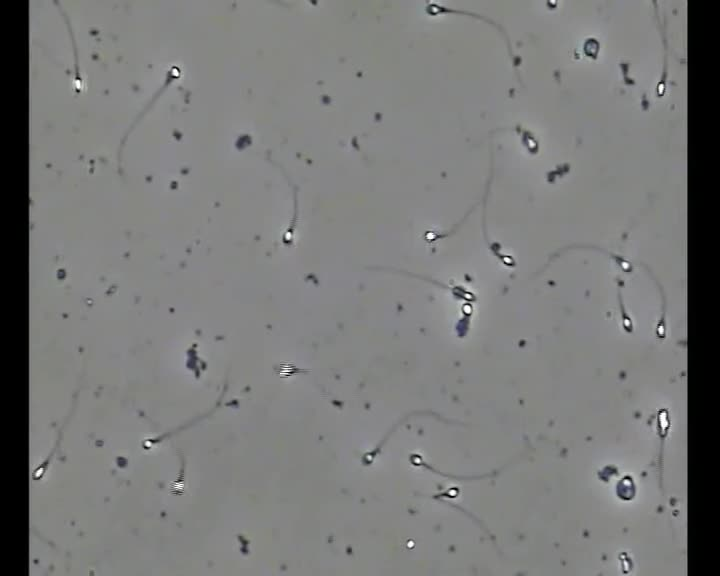spermhead: (516, 125, 538, 154), (616, 474, 636, 501), (655, 408, 670, 438), (273, 363, 301, 378), (597, 464, 619, 482), (583, 37, 600, 60), (425, 1, 447, 15), (618, 552, 632, 574), (455, 315, 469, 337), (615, 255, 632, 272), (166, 64, 182, 82), (32, 460, 47, 479), (71, 73, 84, 93), (423, 230, 442, 243), (362, 449, 377, 465), (621, 312, 632, 333), (655, 319, 666, 339), (282, 227, 294, 245), (500, 253, 515, 267), (460, 301, 473, 317), (443, 486, 459, 499), (656, 78, 666, 98), (409, 452, 423, 466), (462, 288, 476, 301), (173, 478, 184, 494), (488, 241, 501, 254), (221, 398, 239, 407), (142, 438, 155, 450), (546, 0, 557, 9), (407, 538, 415, 550)
